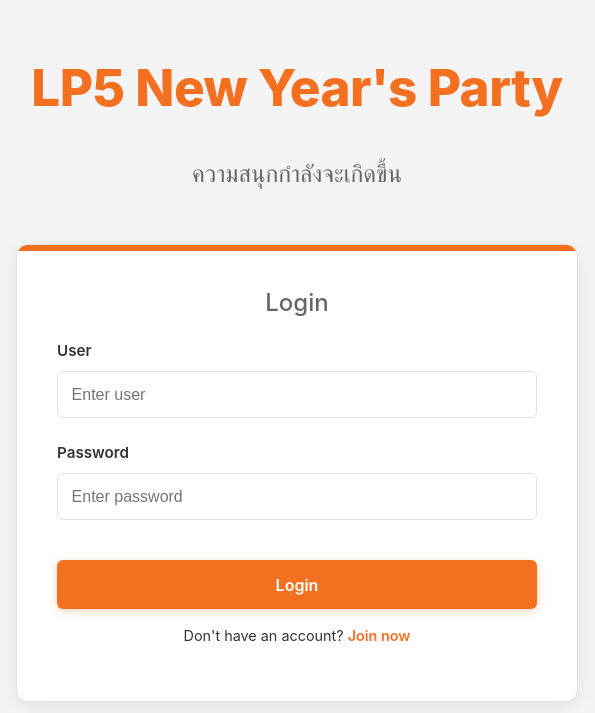
App Component › shows error when submitting empty form
# Switch to Join mode
Click the link "Join now" at point(379, 636), box top-left (348, 627), bottom-right (410, 644)
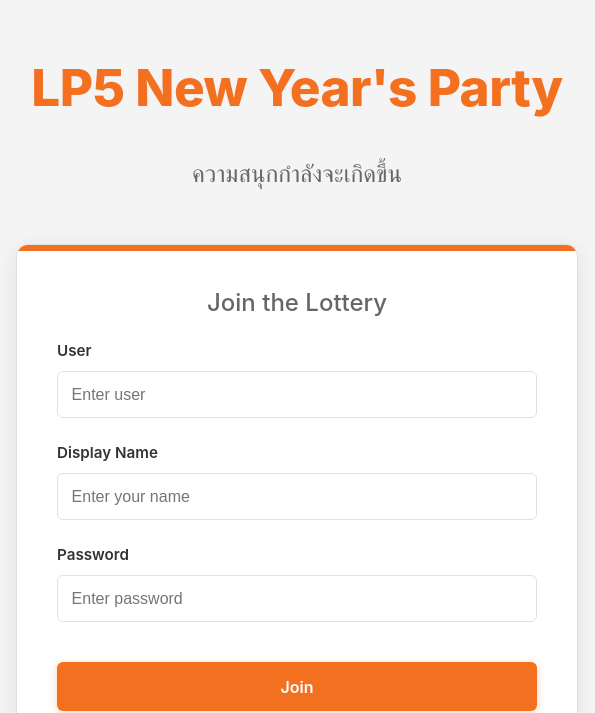
Click the button "Join" at point(297, 687), box top-left (57, 662), bottom-right (537, 711)
(page scrolled)
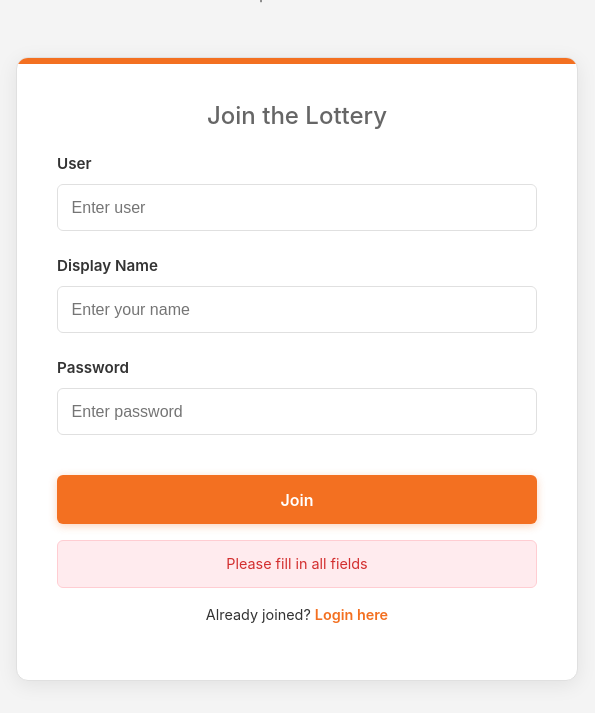
Expected: the text "Please fill in all fields" is shown, top-left (57, 540), bottom-right (537, 588)
